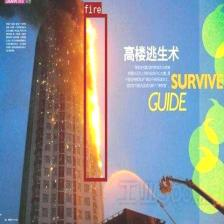fire: (84, 13, 106, 181)
